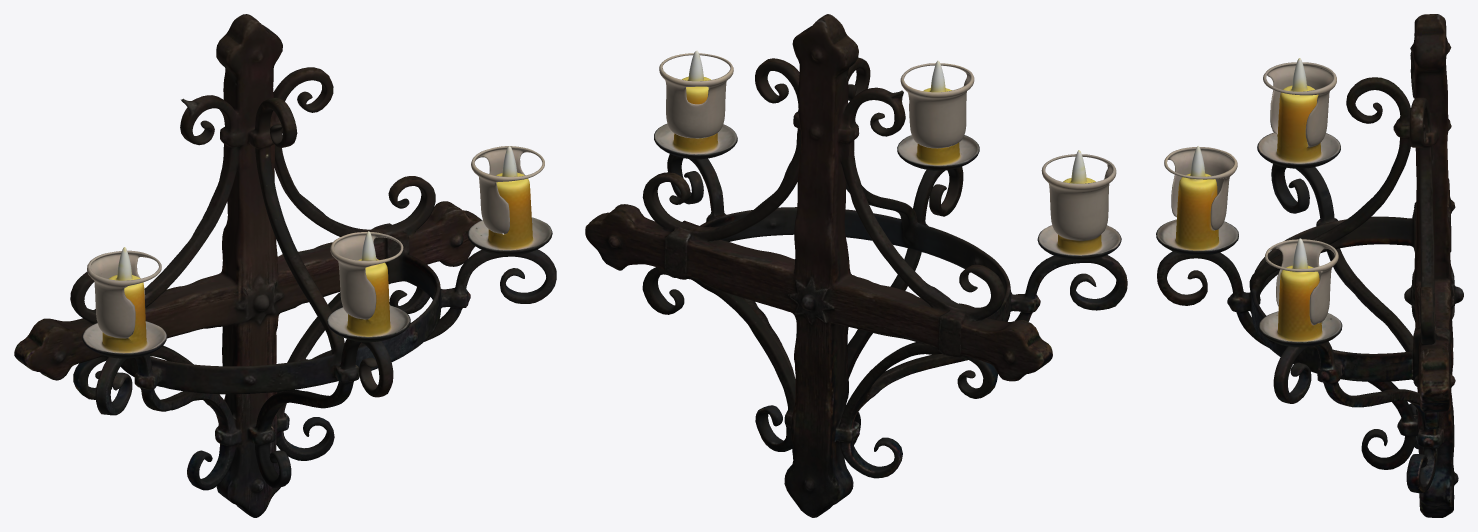
File: wrought-iron-sconce.glb
3 renders of one model, left to right at view 1: azimuth 30°, elevation 25°; view 2: azimuth 150°, elevation 25°; view 3: azimuth 270°, elevation 25°, orthographic.
Visible parts, largest first — view 1: tripo_node_4039d2e8; view 2: tripo_node_4039d2e8; view 3: tripo_node_4039d2e8.
Boxes of the visible parts, <box> form: tripo_node_4039d2e8: <box>14,14,556,517</box>; tripo_node_4039d2e8: <box>585,14,1127,517</box>; tripo_node_4039d2e8: <box>1156,14,1463,517</box>.
Size of the model in its own units: 94.71 by 97.92 by 54.74.
Materials: 1 (1 with a texture image).
